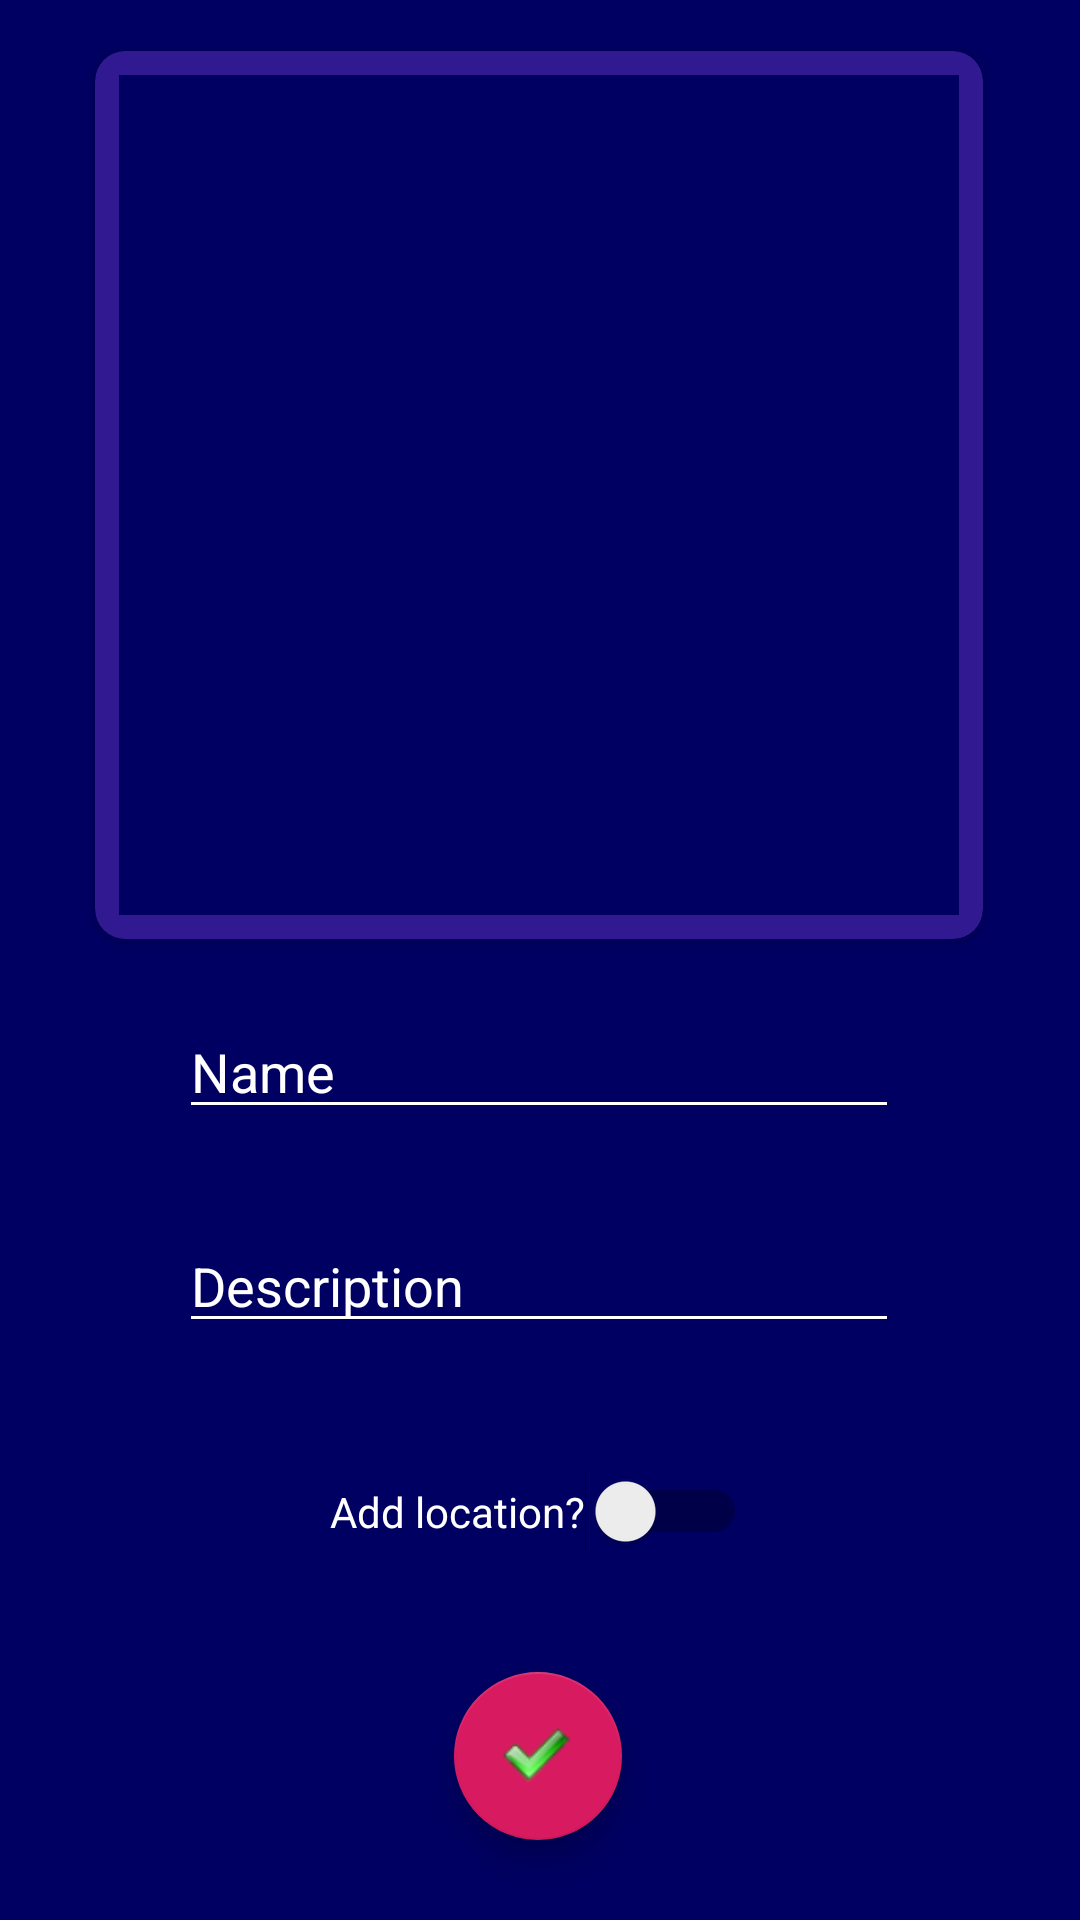

Icons on this 1080px×1920px Android screen, each with the point to tap as (x,y):
check: (538,1756)
